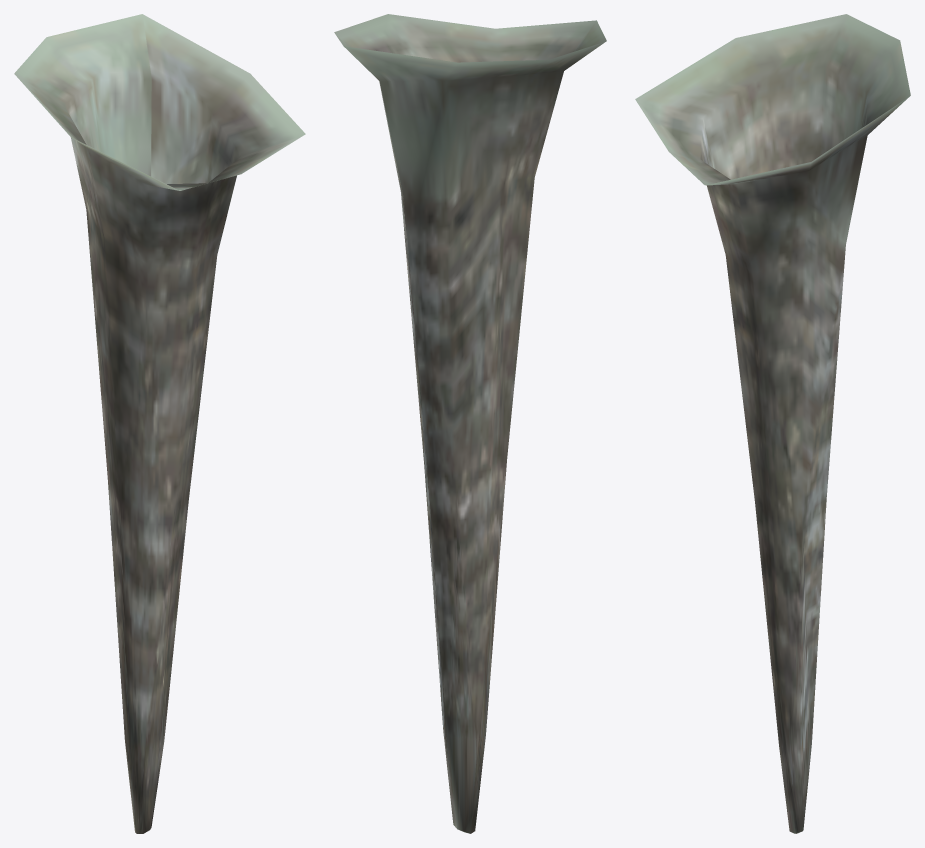
File: TROLLHOLE02_PS-UPPERSTALAG.fbx
3 renders of one model, left to right at view 1: azimuth 30°, elevation 25°; view 2: azimuth 150°, elevation 25°; view 3: azimuth 270°, elevation 25°, orthographic. The views are drawn at different scales.
Visible parts, largest first — view 1: TROLLHOLE02_PS-UPPERSTALAG; view 2: TROLLHOLE02_PS-UPPERSTALAG; view 3: TROLLHOLE02_PS-UPPERSTALAG.
Boxes of the visible parts, <box> form: TROLLHOLE02_PS-UPPERSTALAG: <box>14,14,305,833</box>; TROLLHOLE02_PS-UPPERSTALAG: <box>334,14,606,833</box>; TROLLHOLE02_PS-UPPERSTALAG: <box>635,14,910,833</box>.
Bounding box in the file's own units: 8472 × 28107 × 9109.
1 material, 1 textured.
